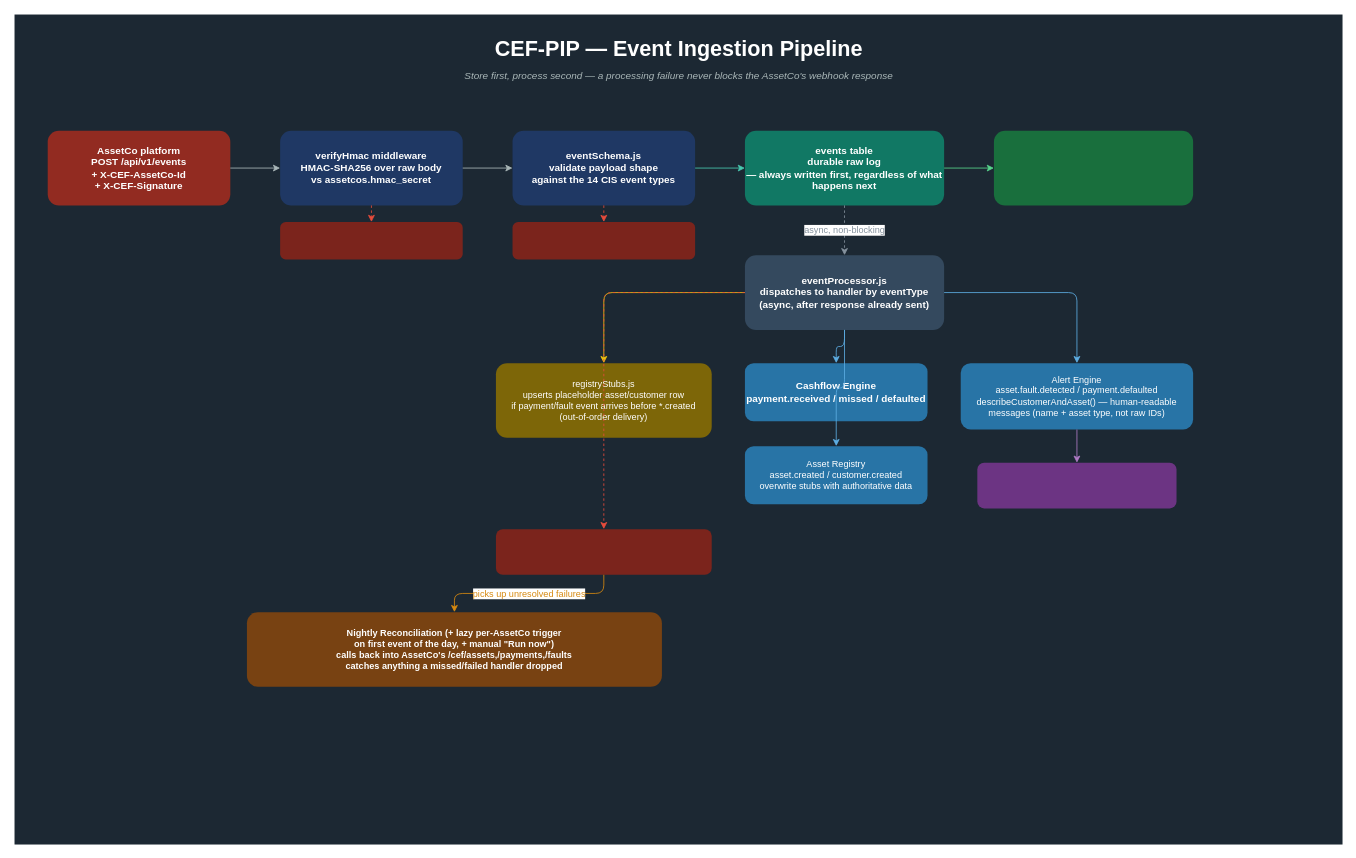
The diagram is 1356 pixels wide and 858 high, and some of its shapes have lost their labels. Here are the shapes that lost their labels. From the top down, the centre of each, then its label:
point (1093, 167): 200 { status: accepted, eventId } returned to AssetCo immediately
point (371, 240): 401 Invalid signature (request rejected, nothing stored)
point (603, 240): 400 Bad Request (malformed / unknown event)
point (1076, 485): Resend alert / notification email
point (603, 551): processing_error recorded on event row (handler failure ≠ HTTP 5xx)
